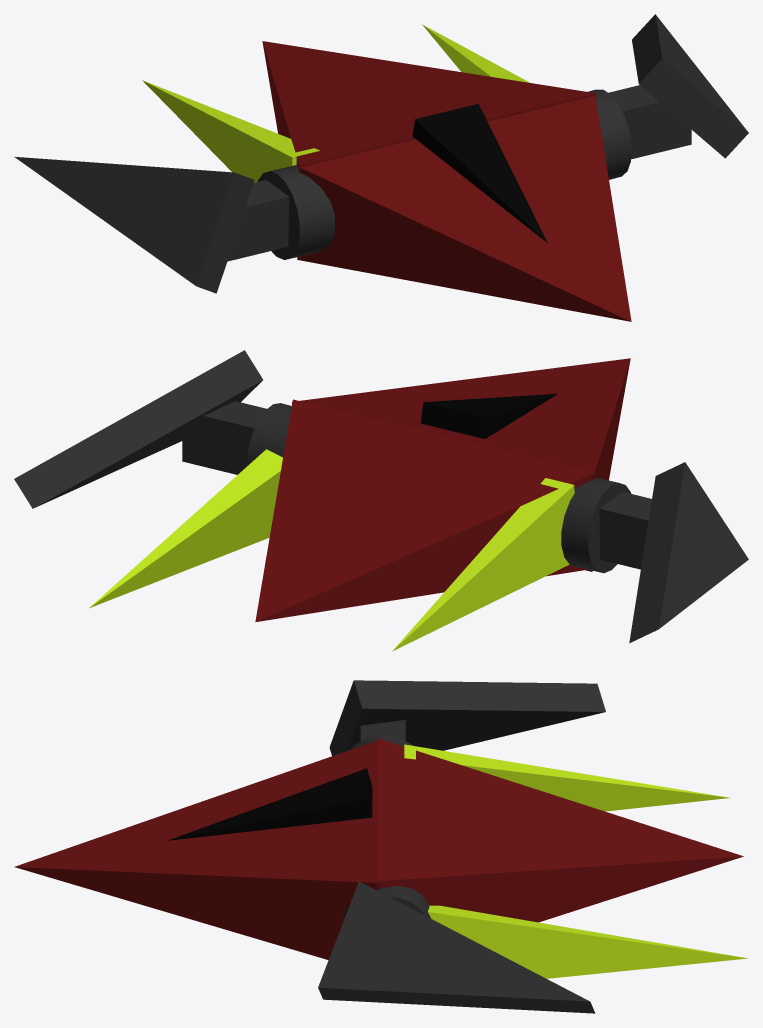
File: Kleiner_Gegner3_painted.fbx
3 renders of one model, top to bottom at view 1: azimuth 30°, elevation 25°; view 2: azimuth 150°, elevation 25°; view 3: azimuth 270°, elevation 25°, orthographic. The views are drawn at different scales.
Visible parts, largest first — view 1: Pyramid001, Pyramid002, Prism001, Prism002, Pyramid003, Pyramid004, Cylinder002, Box002, Box001, Cylinder001, Pyramid005; view 2: Pyramid002, Pyramid001, Prism001, Prism002, Pyramid004, Pyramid005, Box002, Cylinder002, Pyramid003, Box001, Cylinder001; view 3: Pyramid002, Pyramid001, Prism002, Prism001, Pyramid005, Pyramid004, Pyramid003, Cylinder001, Box001.
Boxes of the visible parts, box(x1,y1,x2,y2) form: Pyramid001: box(297, 95, 631, 321); Pyramid002: box(262, 41, 596, 259); Prism001: box(14, 156, 254, 293); Prism002: box(632, 14, 748, 158); Pyramid003: box(412, 104, 547, 242); Pyramid004: box(142, 80, 320, 182); Cylinder002: box(257, 165, 334, 259); Box002: box(608, 85, 691, 159); Box001: box(227, 180, 288, 261); Cylinder001: box(588, 89, 631, 179); Pyramid005: box(422, 24, 529, 82); Pyramid002: box(255, 399, 594, 622); Pyramid001: box(292, 358, 630, 571); Prism001: box(629, 462, 748, 643); Prism002: box(14, 350, 262, 508); Pyramid004: box(392, 478, 574, 651); Pyramid005: box(89, 449, 282, 608); Box002: box(182, 401, 266, 474); Cylinder002: box(561, 477, 631, 573); Pyramid003: box(420, 393, 557, 438); Box001: box(599, 491, 651, 569); Cylinder001: box(246, 403, 291, 466); Pyramid002: box(377, 738, 743, 922); Pyramid001: box(14, 740, 379, 959); Prism002: box(318, 881, 595, 1013); Prism001: box(329, 680, 605, 755); Pyramid005: box(428, 905, 748, 978); Pyramid004: box(404, 744, 730, 811); Pyramid003: box(168, 768, 372, 840); Cylinder001: box(343, 885, 430, 921); Box001: box(360, 720, 405, 740).
Size of the model in its own units: 184 by 38.11 by 186.
